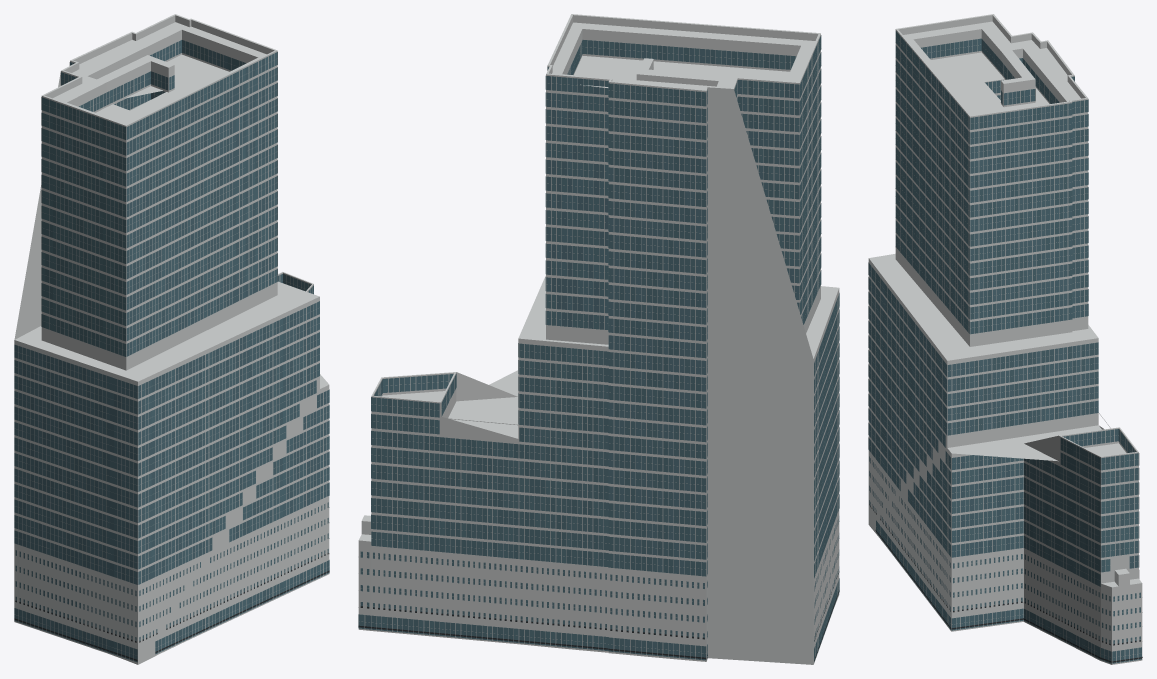
Rendered from hikarie.glb.
3 renders of one model, left to right at view 1: azimuth 30°, elevation 25°; view 2: azimuth 150°, elevation 25°; view 3: azimuth 270°, elevation 25°, orthographic. The views are drawn at different scales.
Visible parts, largest first — view 1: hikarie_wall, hikarie_glass2, hikarie_glass0, hikarie_glass1, hikarie_frame, hikarie_roof, hikarie_spandrel, hikarie_sign_housing; view 2: hikarie_wall, hikarie_glass2, hikarie_glass0, hikarie_glass1, hikarie_frame, hikarie_roof, hikarie_spandrel, hikarie_sign_housing; view 3: hikarie_wall, hikarie_glass2, hikarie_glass0, hikarie_glass1, hikarie_roof, hikarie_frame, hikarie_spandrel, hikarie_sign_housing.
Boxes of the visible parts, x1=… form: hikarie_wall: x1=14, y1=15, x2=329, y2=664; hikarie_glass2: x1=14, y1=40, x2=329, y2=659; hikarie_glass0: x1=14, y1=41, x2=329, y2=662; hikarie_glass1: x1=14, y1=40, x2=329, y2=658; hikarie_frame: x1=14, y1=43, x2=328, y2=651; hikarie_roof: x1=15, y1=14, x2=329, y2=388; hikarie_spandrel: x1=14, y1=37, x2=329, y2=662; hikarie_sign_housing: x1=14, y1=553, x2=329, y2=661; hikarie_wall: x1=358, y1=15, x2=839, y2=664; hikarie_glass2: x1=359, y1=37, x2=839, y2=657; hikarie_glass0: x1=360, y1=35, x2=839, y2=662; hikarie_glass1: x1=358, y1=40, x2=839, y2=660; hikarie_frame: x1=358, y1=42, x2=838, y2=659; hikarie_roof: x1=359, y1=14, x2=838, y2=541; hikarie_spandrel: x1=358, y1=37, x2=839, y2=660; hikarie_sign_housing: x1=358, y1=571, x2=839, y2=661; hikarie_wall: x1=868, y1=15, x2=1142, y2=664; hikarie_glass2: x1=868, y1=31, x2=1140, y2=661; hikarie_glass0: x1=868, y1=36, x2=1140, y2=663; hikarie_glass1: x1=868, y1=32, x2=1141, y2=662; hikarie_roof: x1=869, y1=14, x2=1141, y2=587; hikarie_frame: x1=868, y1=36, x2=1140, y2=663; hikarie_spandrel: x1=868, y1=36, x2=1142, y2=664; hikarie_sign_housing: x1=869, y1=504, x2=1142, y2=662.
Bounding box in the file's own units: 132 × 185 × 92.61.
